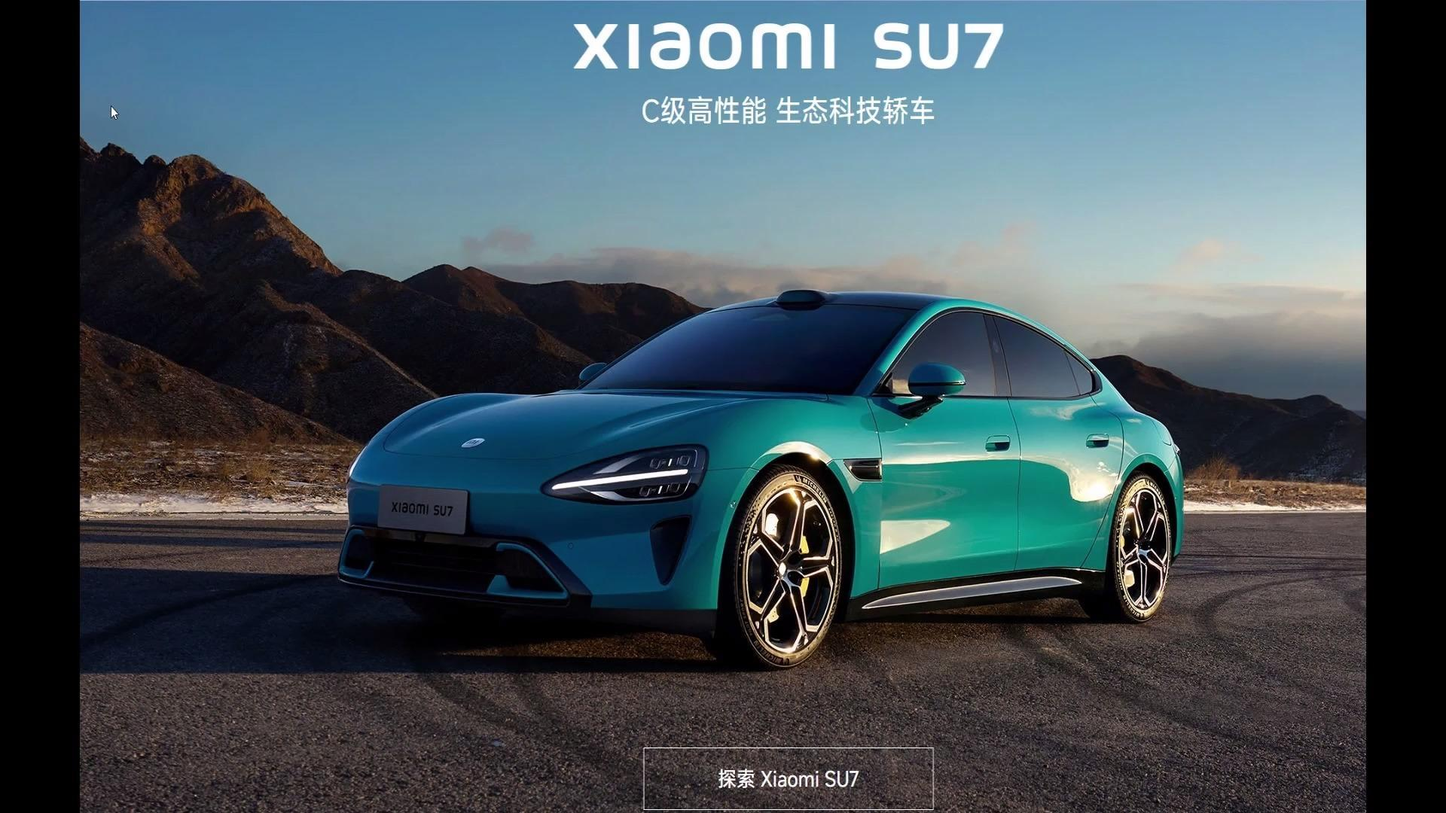su7: (337, 279, 1193, 649)
